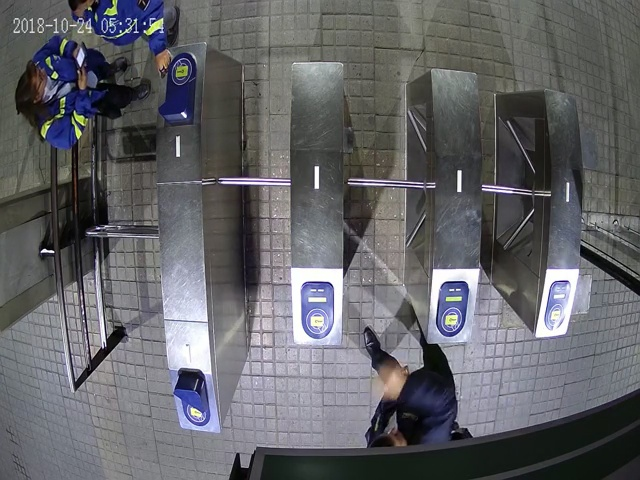Chaleco_azul: (15, 32, 152, 151), (67, 1, 179, 78)
